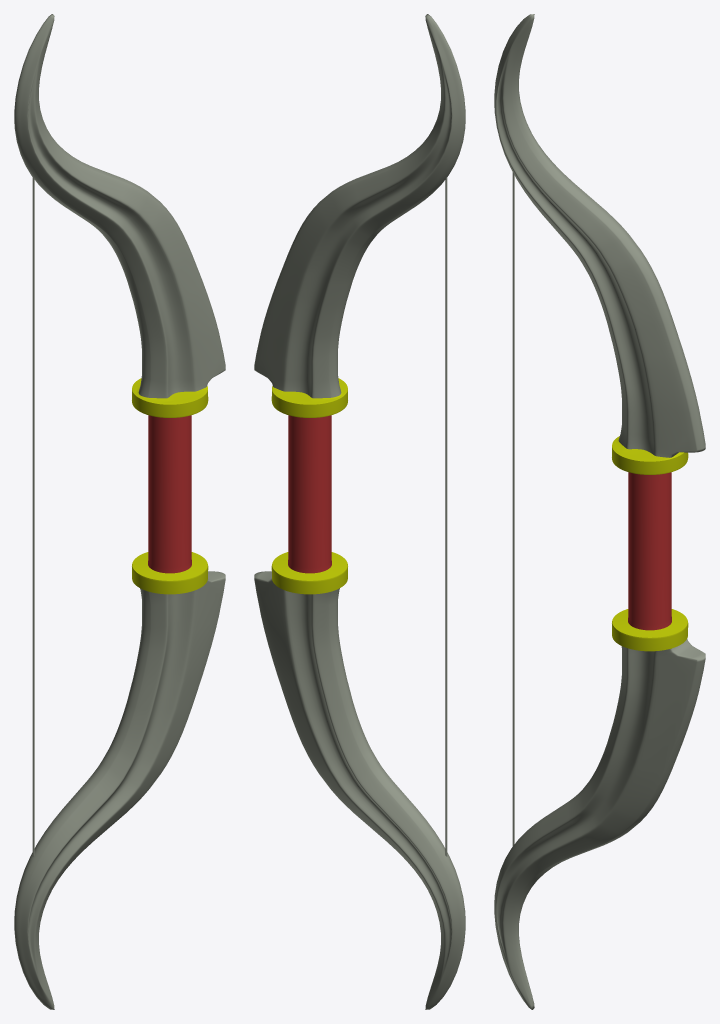
Rendered from bow_v2.fbx.
3 views of the same model, side by side, from view 1: azimuth 30°, elevation 25°; view 2: azimuth 150°, elevation 25°; view 3: azimuth 330°, elevation 25° (orthographic).
Parts seen in each view (by area): view 1: polySurface8; view 2: polySurface8; view 3: polySurface8.
Part boxes in pixels (left/top/right/bottom): polySurface8: left=14, top=14, right=225, bottom=1009; polySurface8: left=254, top=14, right=465, bottom=1009; polySurface8: left=494, top=14, right=705, bottom=1009.
Bounding box in the file's own units: 3.06 × 13.88 × 0.9655.
